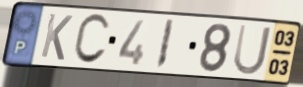4: (116, 18, 147, 67)
8: (199, 22, 233, 74)
C: (70, 12, 112, 67)
I: (153, 18, 177, 72)
K: (38, 11, 75, 63)
U: (231, 23, 274, 77)
